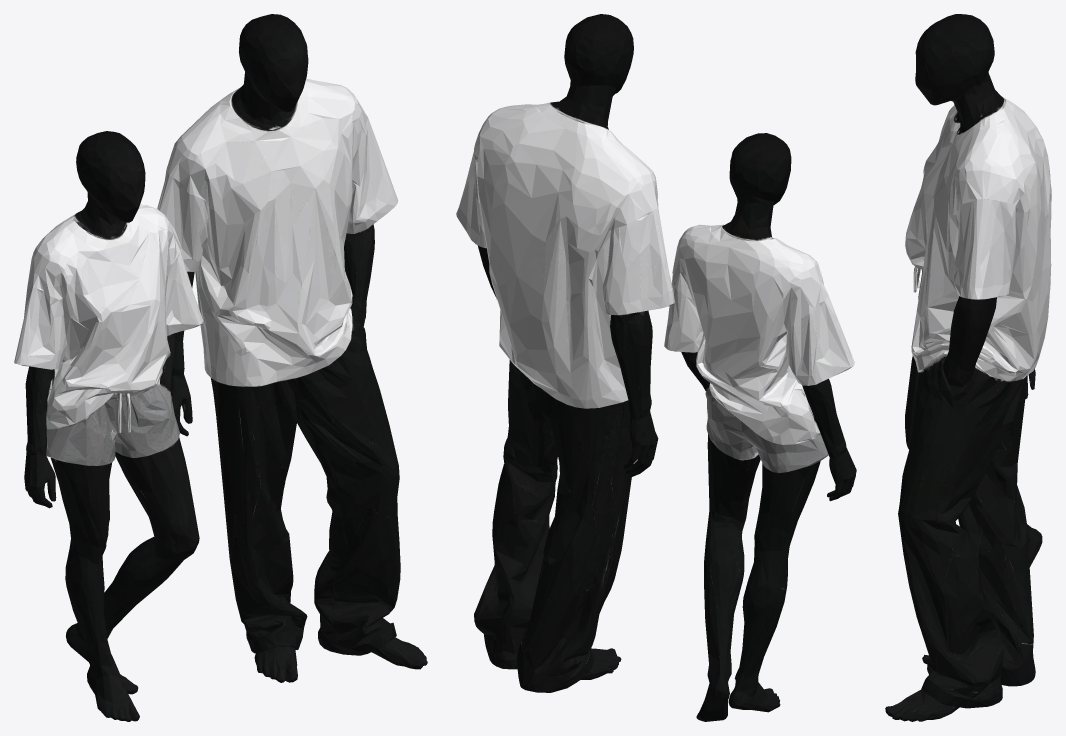
The model's file is duo.glb.
3 views of the same model, side by side, from view 1: azimuth 30°, elevation 25°; view 2: azimuth 150°, elevation 25°; view 3: azimuth 270°, elevation 25° (orthographic).
Parts seen in each view (by area): view 1: dressed; view 2: dressed; view 3: dressed.
Boxes of the visible parts, x1,y1,x2,y2 form: dressed: [14, 14, 427, 721]; dressed: [456, 14, 856, 721]; dressed: [885, 14, 1051, 721].
Bounding box in the file's own units: 1.13 × 1.82 × 0.4248.
1 material, 1 textured.
